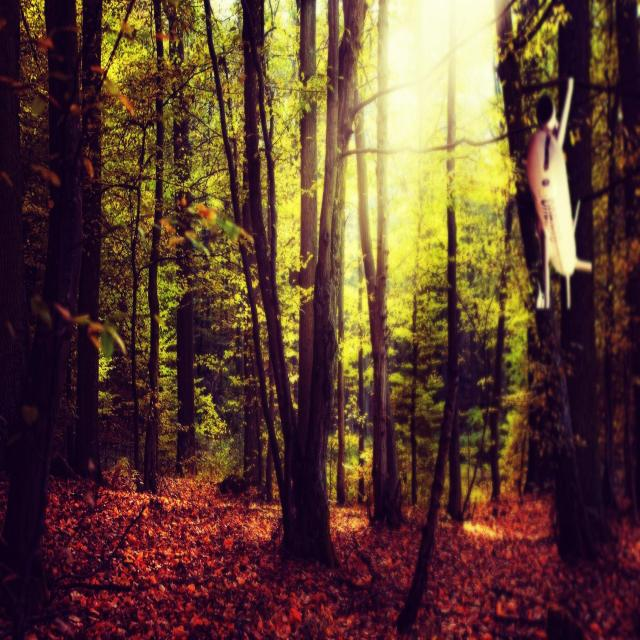airplane: (525, 75, 593, 310)
